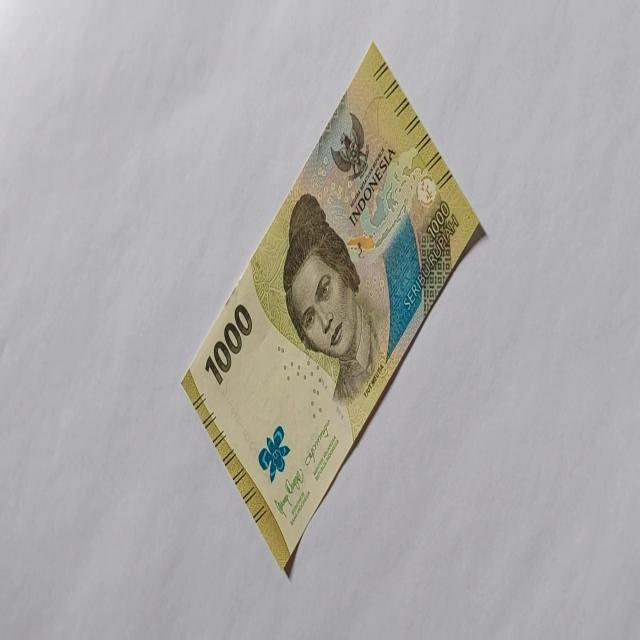seribu rupiah kertas: (180, 39, 487, 574)
